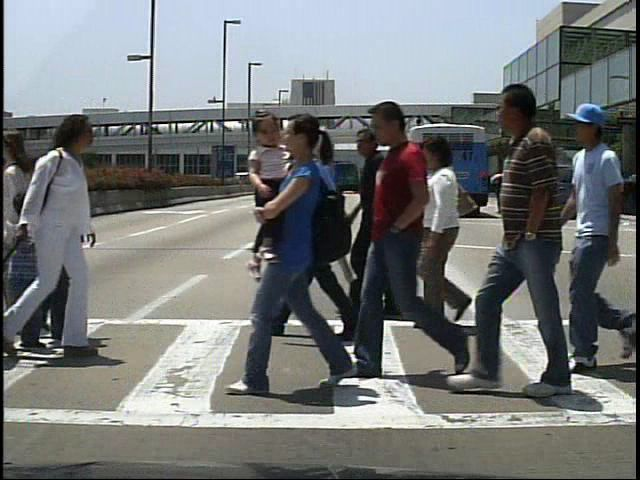person: (482, 84, 584, 413), (3, 113, 113, 362), (368, 97, 462, 375), (268, 121, 370, 347), (562, 101, 635, 376), (411, 137, 492, 339), (342, 130, 415, 322), (582, 168, 602, 218), (506, 166, 526, 215), (500, 165, 509, 215)
